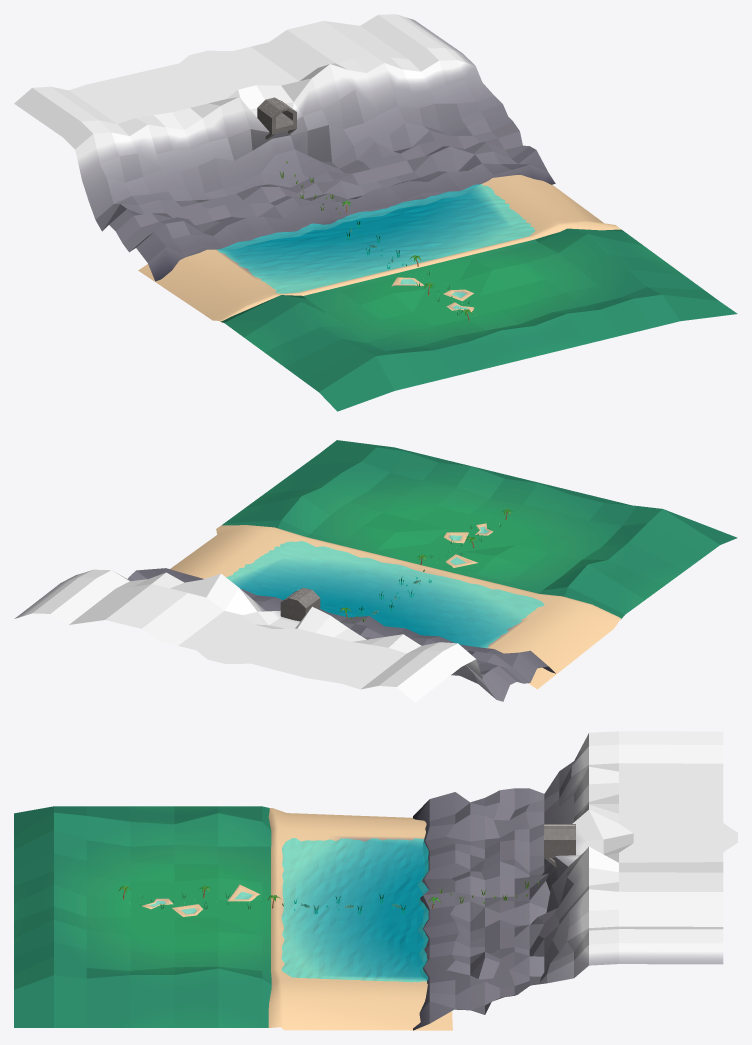
Rendered from hubstutorialenvironment11.15.glb.
3 views of the same model, one above another, from view 1: azimuth 30°, elevation 25°; view 2: azimuth 150°, elevation 25°; view 3: azimuth 270°, elevation 25° (orthographic). The views are drawn at different scales.
Visible parts, largest first — view 1: mountains, grass, sand, WATER, endhangar; view 2: grass, mountains, sand, WATER, endhangar, grass.001; view 3: mountains, grass, sand, WATER, endhangar, grass.001.
Boxes of the visible parts, <box> form: mountains: <box>14,14,555,281</box>; grass: <box>220,228,737,411</box>; sand: <box>138,175,620,323</box>; WATER: <box>217,184,535,293</box>; endhangar: <box>257,97,296,139</box>; grass: <box>222,440,737,619</box>; mountains: <box>14,568,555,702</box>; sand: <box>170,525,623,689</box>; WATER: <box>226,541,544,647</box>; endhangar: <box>280,587,320,621</box>; grass.001: <box>444,523,493,567</box>; mountains: <box>413,731,737,1030</box>; grass: <box>14,806,271,1027</box>; sand: <box>268,808,452,1030</box>; WATER: <box>281,838,428,982</box>; endhangar: <box>544,824,575,867</box>; grass.001: <box>142,884,259,916</box>.
Size of what is drawn, in the model's own units: 1404 by 331 by 1996.
25 materials, 4 textured.
